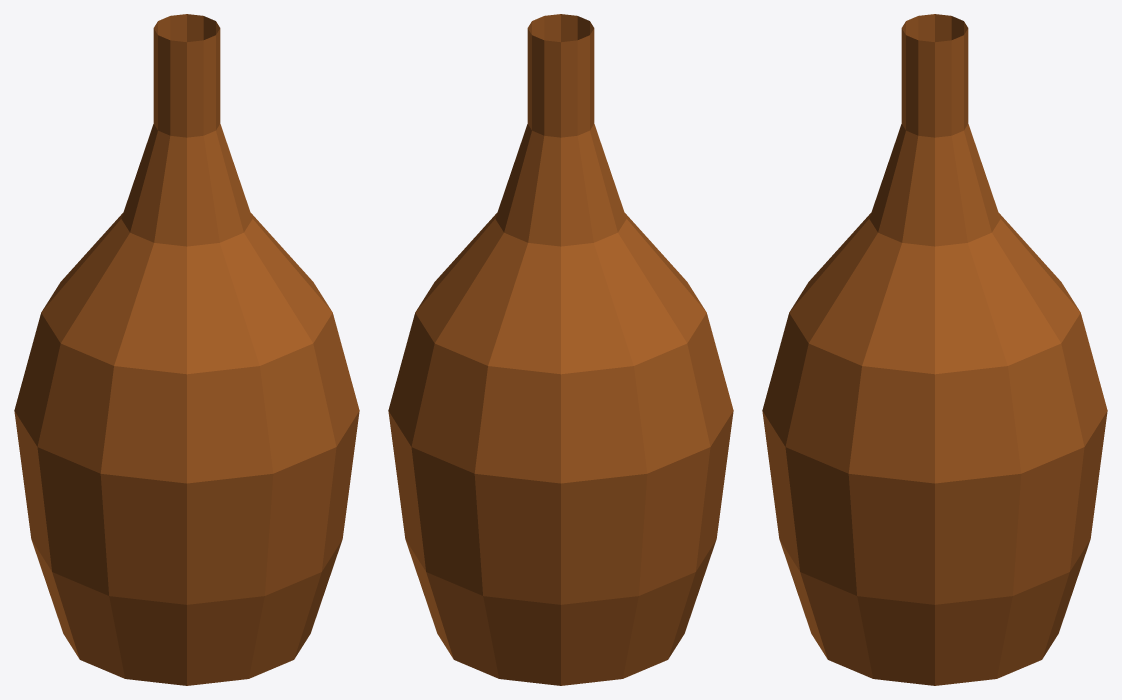
The model's file is SM_pottery_011.FBX.
3 renders of one model, left to right at view 1: azimuth 30°, elevation 25°; view 2: azimuth 150°, elevation 25°; view 3: azimuth 270°, elevation 25°, orthographic.
Visible parts, largest first — view 1: Object095; view 2: Object095; view 3: Object095.
Boxes of the visible parts, bbox=[...] form: Object095: bbox=[14, 14, 359, 685]; Object095: bbox=[388, 14, 733, 685]; Object095: bbox=[762, 14, 1107, 685].
Bounding box in the file's own units: 46.22 × 89.44 × 46.22.
